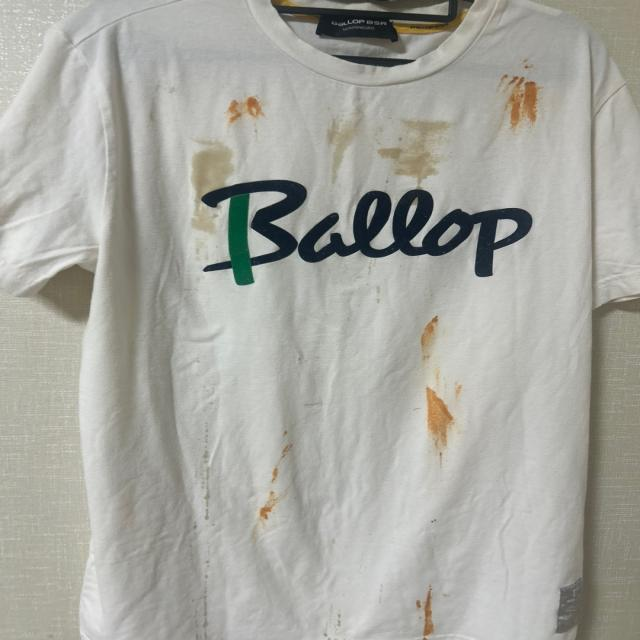stain: (368, 120, 446, 189), (410, 380, 473, 460), (184, 140, 232, 234), (249, 445, 300, 520), (308, 119, 359, 180), (194, 426, 223, 530), (497, 70, 545, 128), (211, 92, 270, 135), (414, 310, 443, 368), (200, 557, 218, 640), (416, 588, 444, 640), (326, 610, 354, 640), (510, 60, 546, 76), (430, 513, 443, 526)
